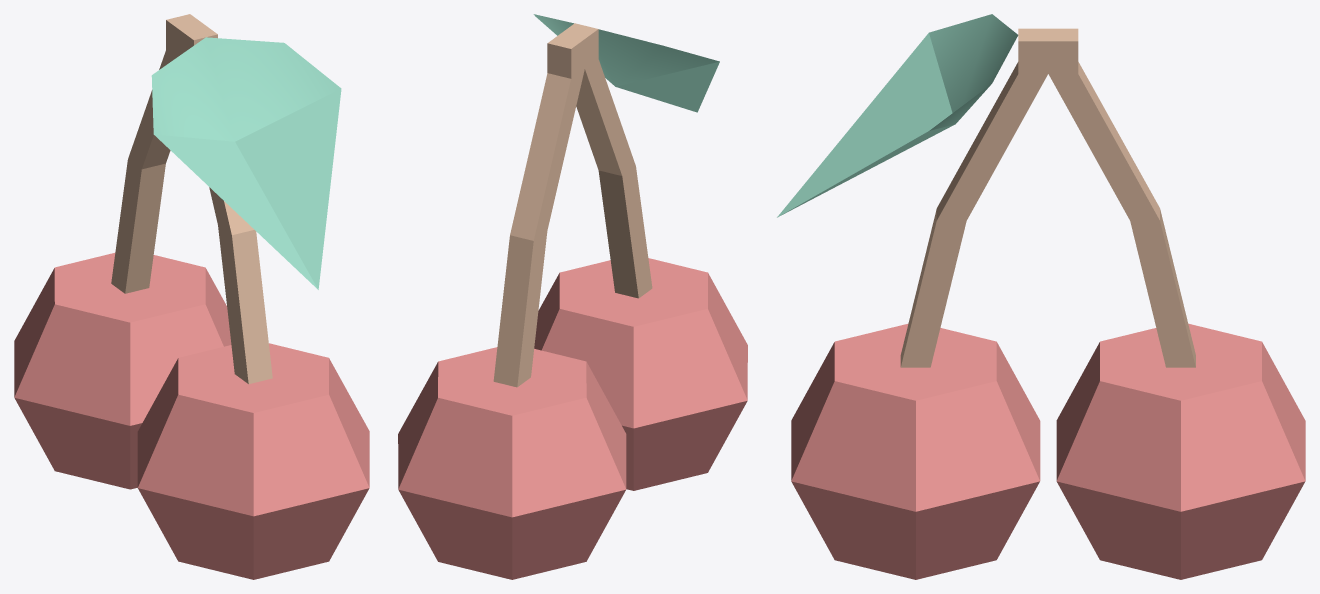
The model's file is cherries.glb.
3 views of the same model, side by side, from view 1: azimuth 30°, elevation 25°; view 2: azimuth 150°, elevation 25°; view 3: azimuth 270°, elevation 25° (orthographic). The views are drawn at different scales.
Parts seen in each view (by area): view 1: cherries; view 2: cherries; view 3: cherries.
Part boxes in pixels (<box>): cherries: <box>14,14,369,579</box>; cherries: <box>398,14,747,579</box>; cherries: <box>777,14,1305,579</box>.
Size of the model in its own units: 0.088 by 0.1707 by 0.1619.
